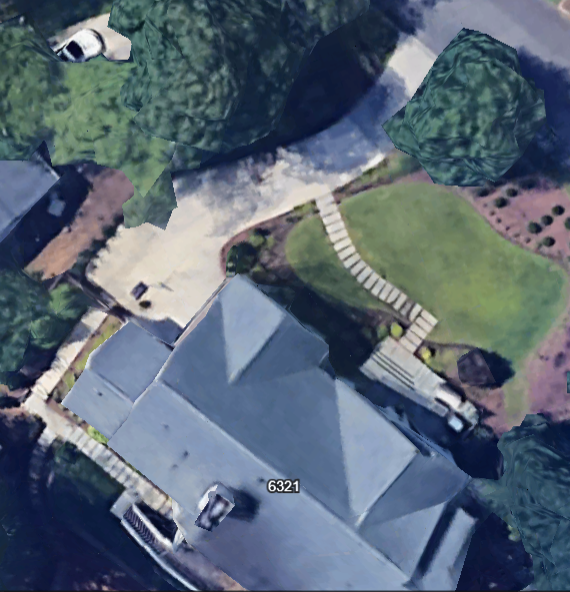driveway: (76, 6, 456, 350)
